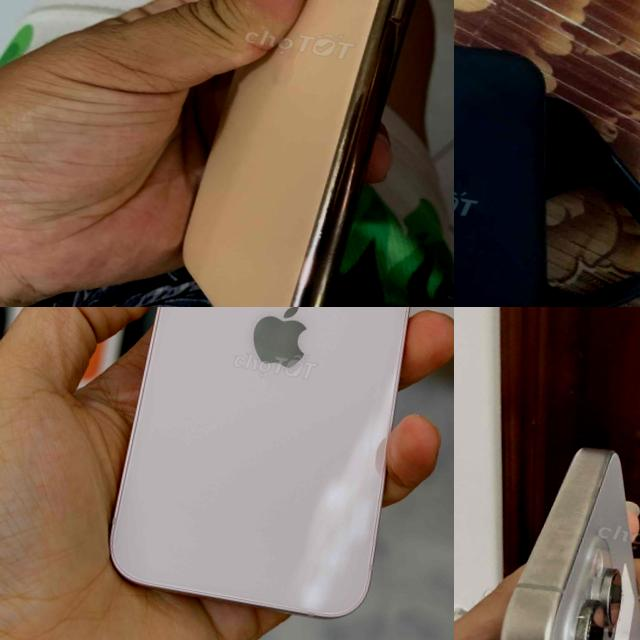scratch: (552, 536, 570, 558)
